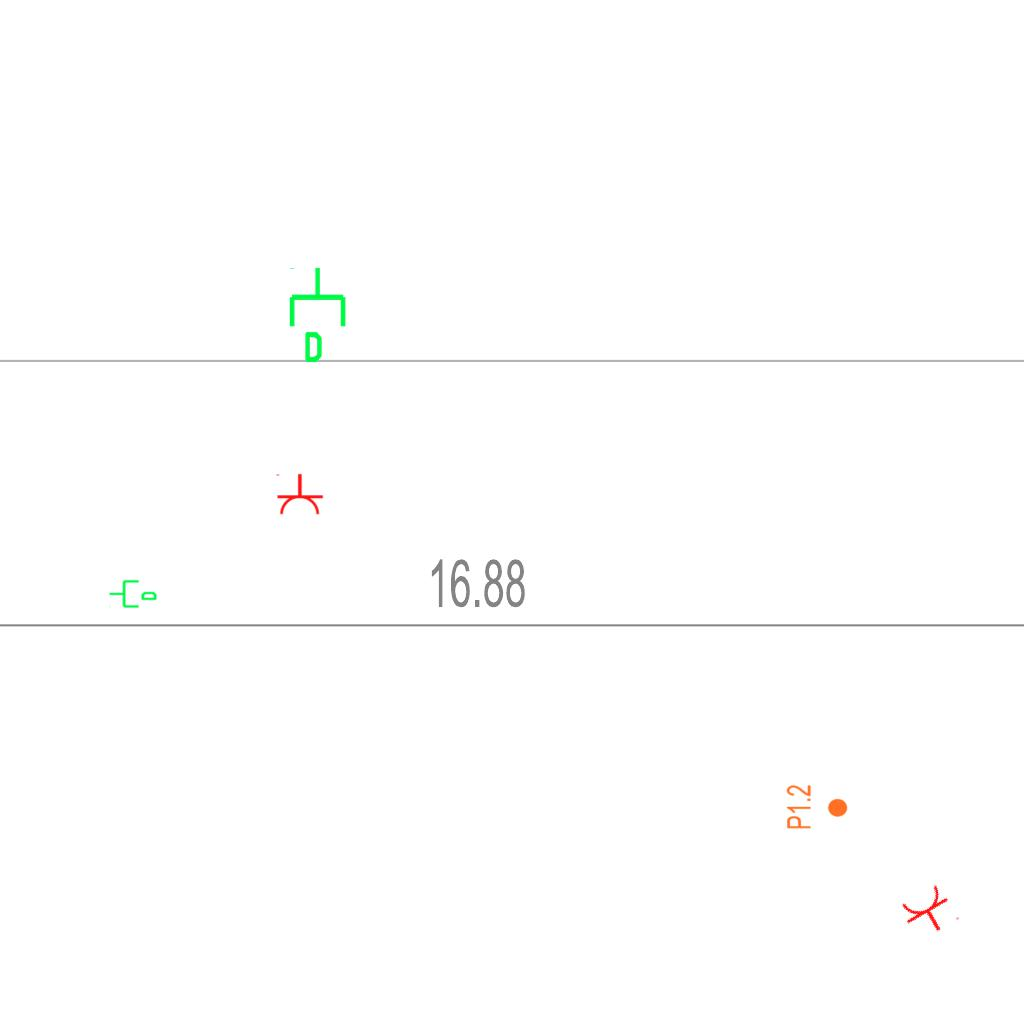Datenanschluss_einfach: (285, 265, 354, 365), (108, 576, 158, 610)
Downlight_LED_Einbauleuchten_Flur: (785, 784, 849, 830)
Schukosteckdose_einfach: (897, 880, 962, 944), (274, 473, 324, 516)
